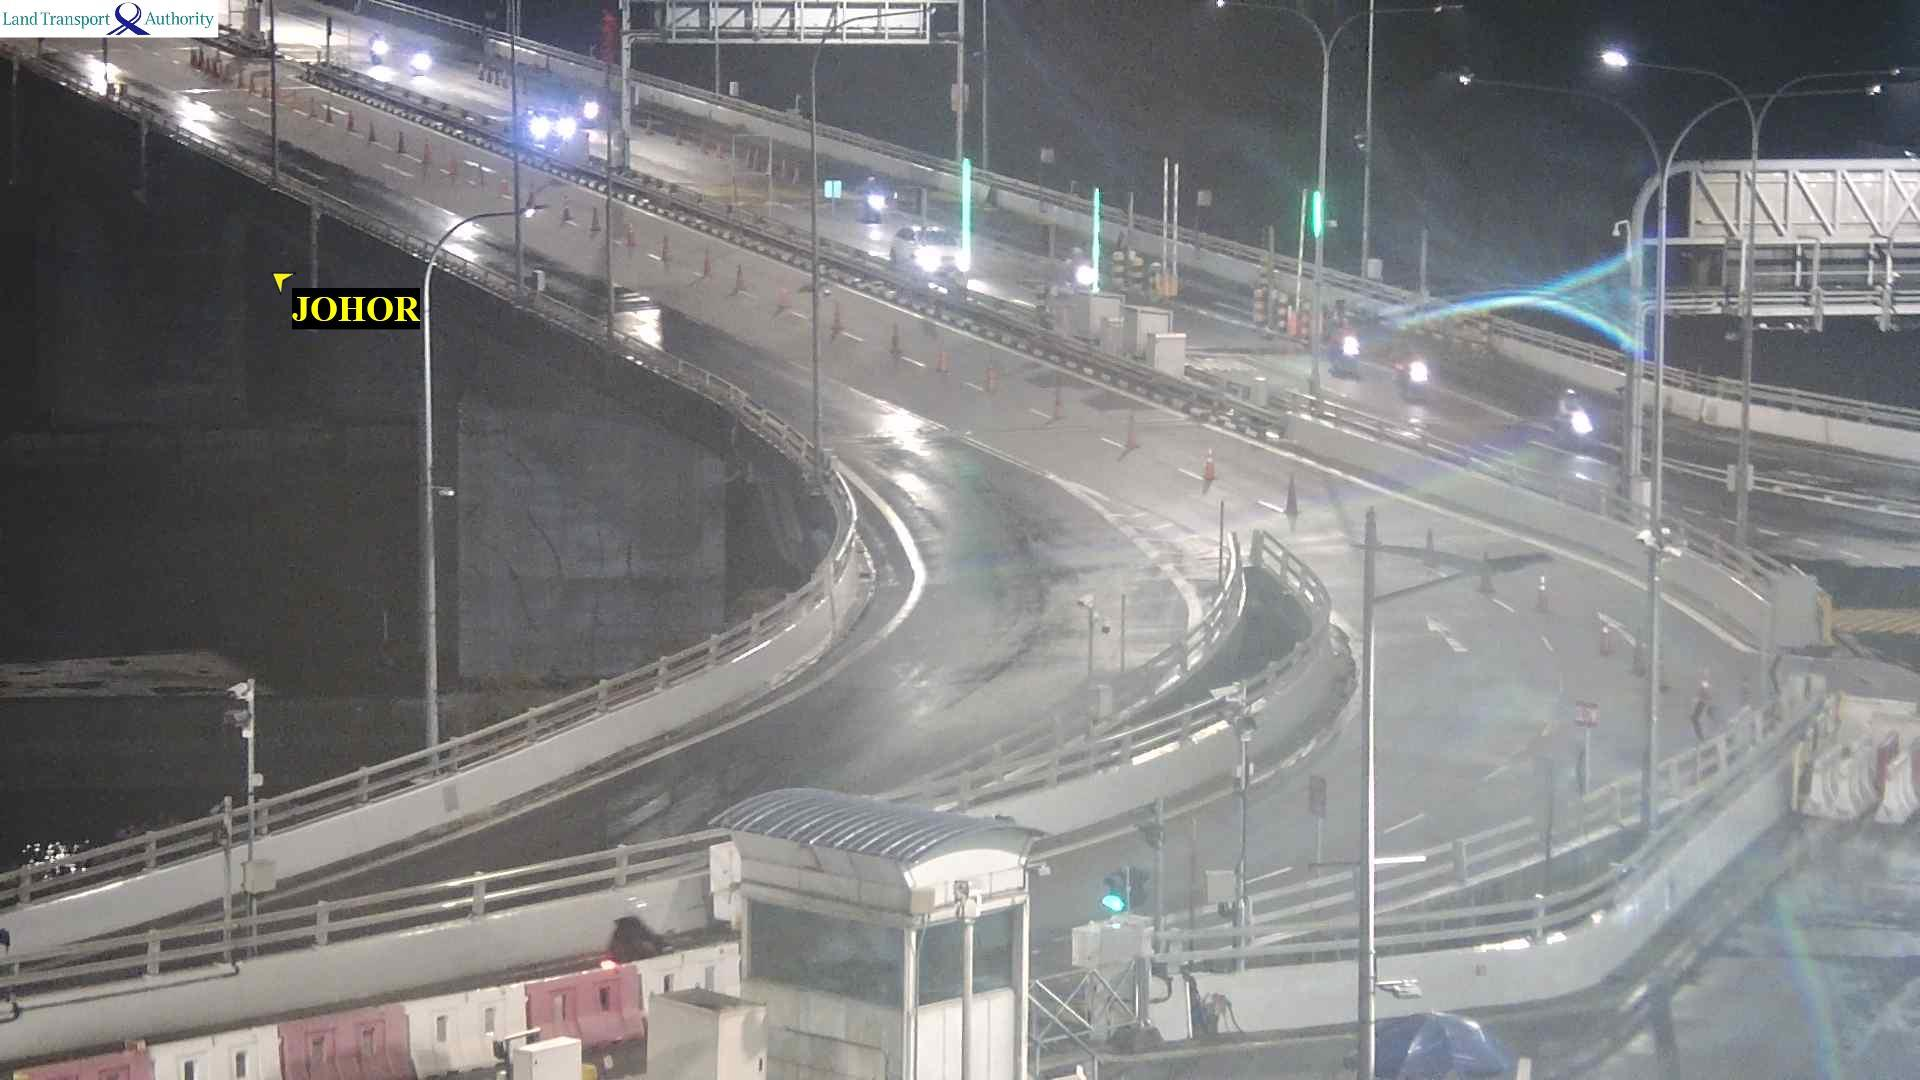vehicle-secondlink-singapore: (523, 83, 587, 144), (895, 228, 962, 273), (1557, 393, 1610, 441), (850, 175, 886, 231), (1078, 586, 1119, 633), (1332, 315, 1359, 370), (1297, 777, 1334, 814), (1571, 696, 1606, 728), (1407, 360, 1430, 399)
